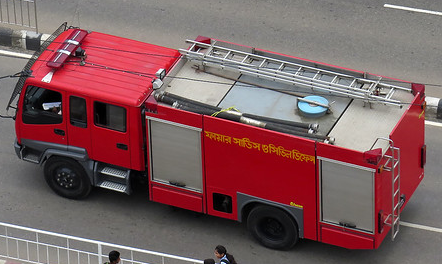Fire truck: (2, 22, 428, 252)
